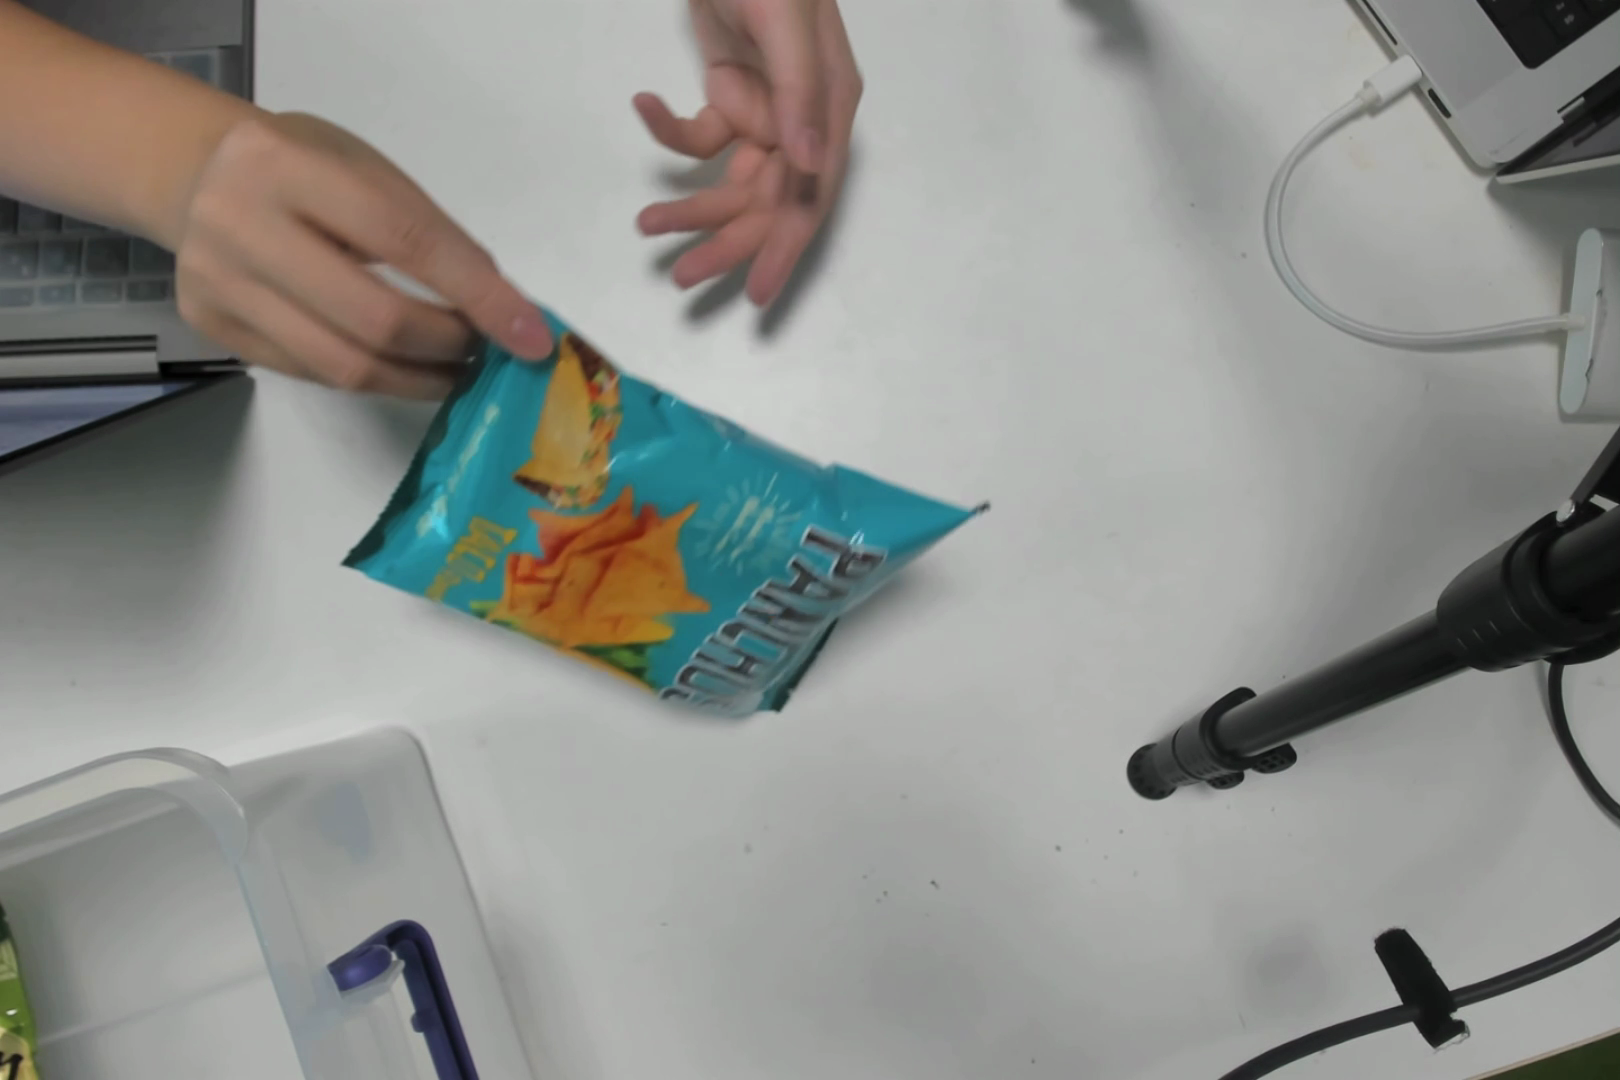PotatochipsKeropok_1-99g_NonHalal_NonHealthy: (447, 366, 909, 745)
